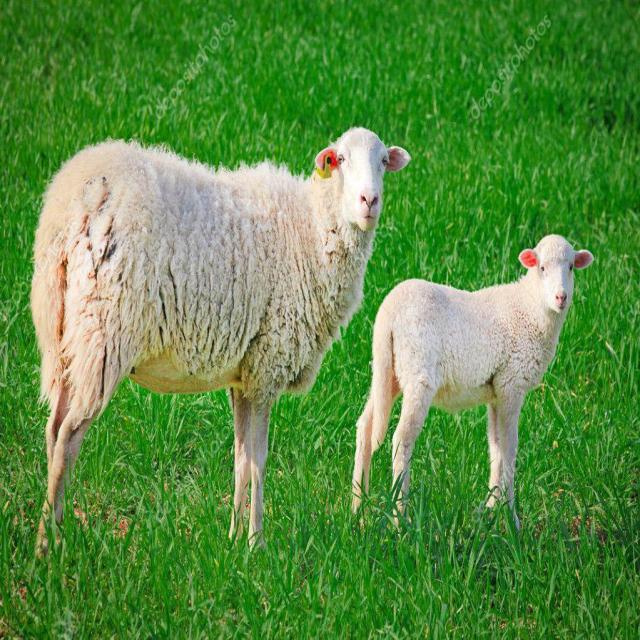Sheep: (31, 125, 409, 546), (348, 231, 596, 513)
